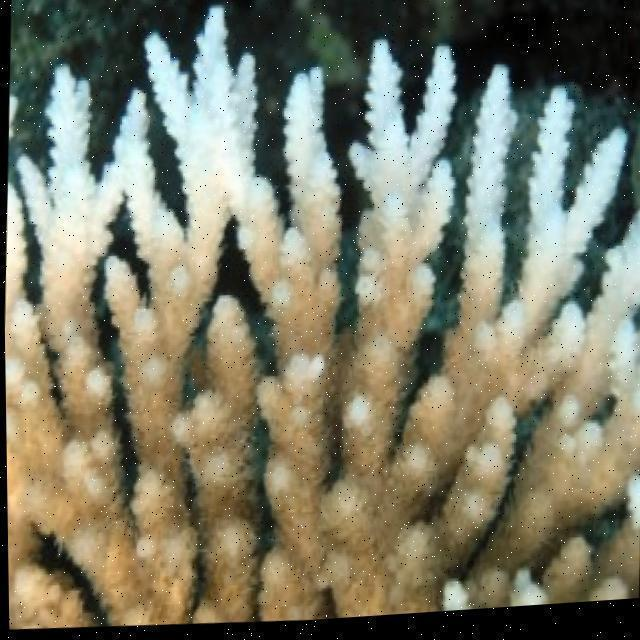Bleached Coral: (0, 23, 640, 280)
